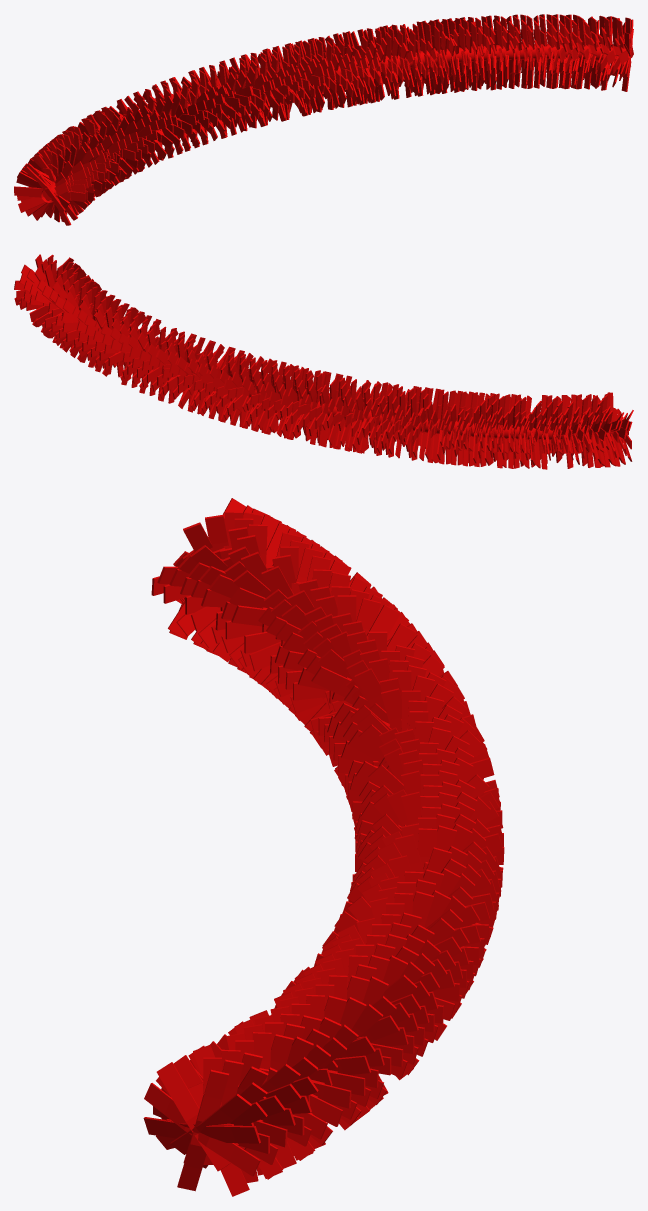
The model's file is kerst slinger rood 1.fbx.
The picture shows the model from 3 angles, top to bottom: view 1: azimuth 30°, elevation 25°; view 2: azimuth 150°, elevation 25°; view 3: azimuth 270°, elevation 25°; orthographic projection. The views are drawn at different scales.
Parts seen in each view (by area): view 1: BézierCurve, BézierCurve|Plane|Dupli|18, BézierCurve|Plane|Dupli|3, BézierCurve|Plane|Dupli|10; view 2: BézierCurve; view 3: BézierCurve|Plane|Dupli|955, BézierCurve|Plane|Dupli|947, BézierCurve|Plane|Dupli|975, BézierCurve|Plane|Dupli|951, BézierCurve|Plane|Dupli|971.
Part boxes in pixels (<box>): BézierCurve: <box>41,44,626,202</box>; BézierCurve|Plane|Dupli|18: <box>18,182,68,212</box>; BézierCurve|Plane|Dupli|3: <box>23,166,65,212</box>; BézierCurve|Plane|Dupli|10: <box>29,187,85,202</box>; BézierCurve: <box>186,372,628,439</box>; BézierCurve|Plane|Dupli|955: <box>156,1062,230,1171</box>; BézierCurve|Plane|Dupli|947: <box>170,1093,251,1154</box>; BézierCurve|Plane|Dupli|975: <box>191,1132,260,1176</box>; BézierCurve|Plane|Dupli|951: <box>183,1069,228,1162</box>; BézierCurve|Plane|Dupli|971: <box>177,1093,206,1191</box>.
Size of the model in its own units: 273 by 28.54 by 69.12.
